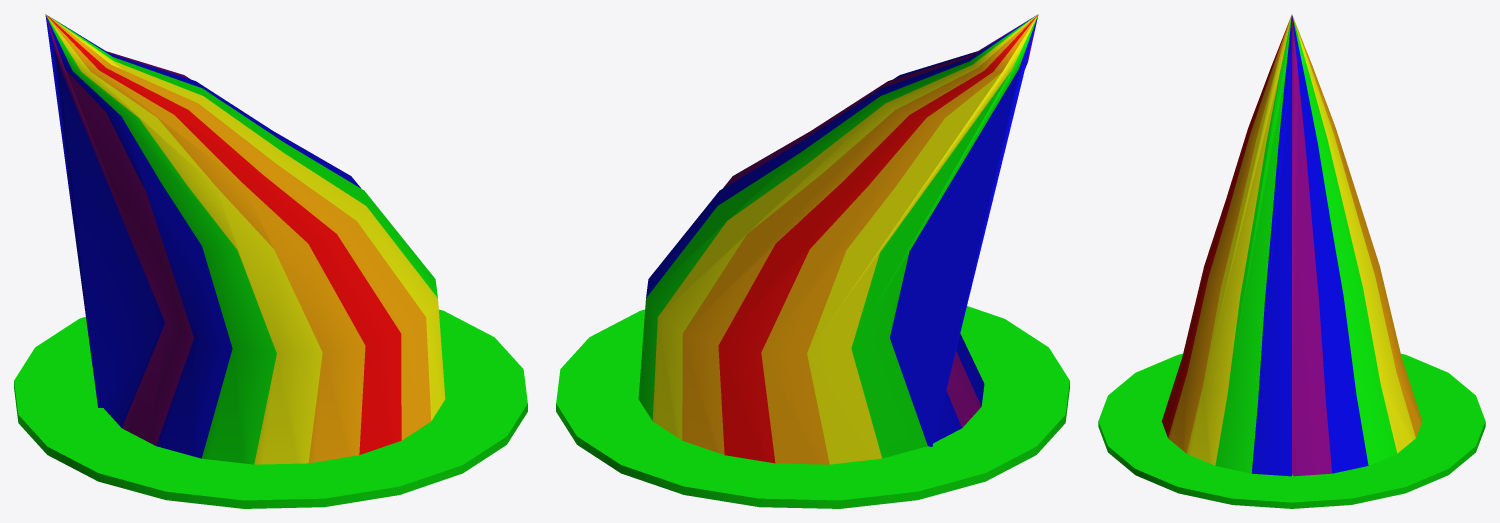
The model's file is Hat6textured.fbx.
3 views of the same model, side by side, from view 1: azimuth 30°, elevation 25°; view 2: azimuth 150°, elevation 25°; view 3: azimuth 270°, elevation 25° (orthographic). The views are drawn at different scales.
Visible parts, largest first — view 1: group11; view 2: group11; view 3: group11.
Part boxes in pixels (x1,y1,x2,y2): group11: (14,14,527,508); group11: (556,14,1069,508); group11: (1098,14,1485,508).
Size of the model in its own units: 1.36 by 1.28 by 1.35.
